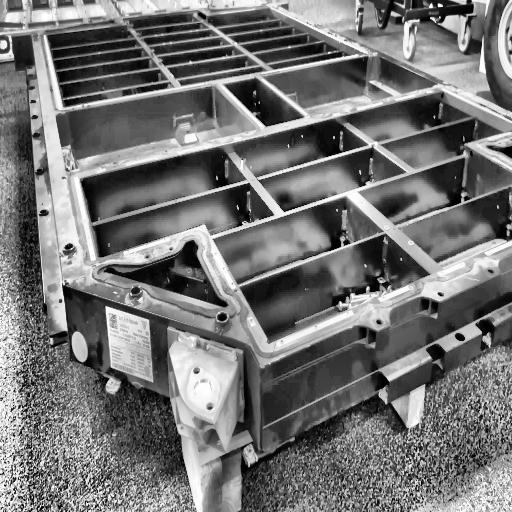b_casing: (13, 0, 512, 370)
